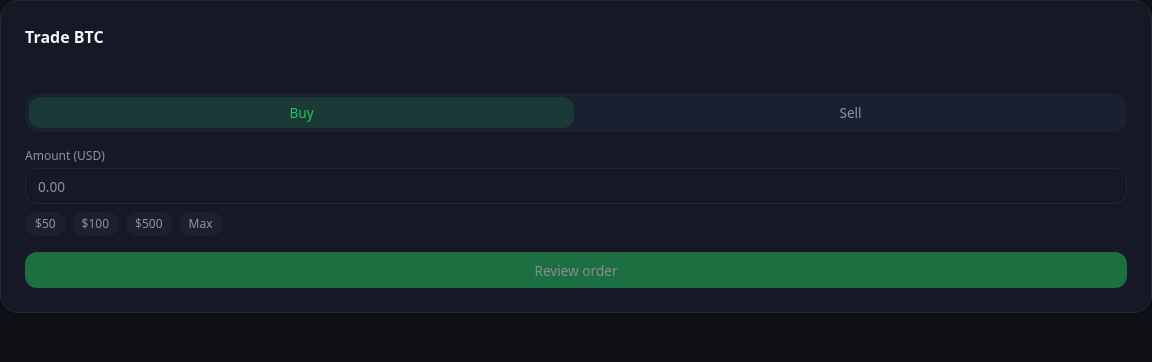
Test: OrderTicket › shows an inline error when buying over available cash
Type "5000" into the field labelled "Amount (USD)" at (576, 186), box [25,168,1127,204]
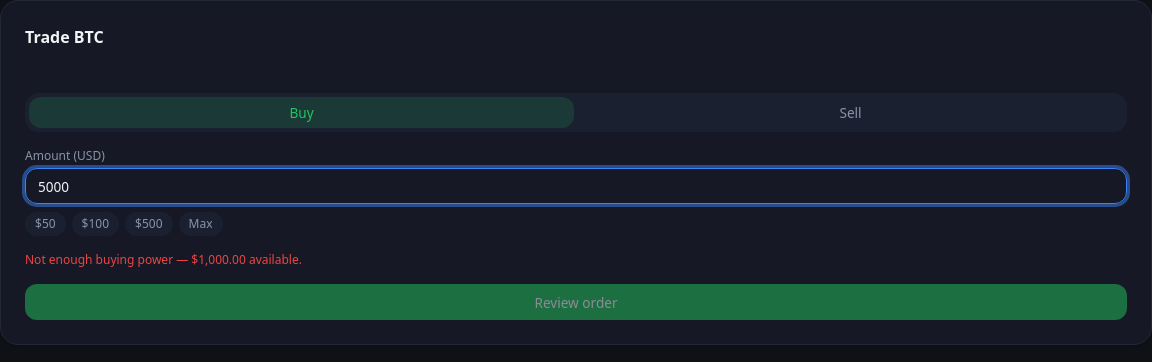
Expected: the button "Review order" is disabled, [25,284,1127,320]
Expected: the text "Not enough buying power — $1,000.00 available." is shown, [25,251,302,268]
